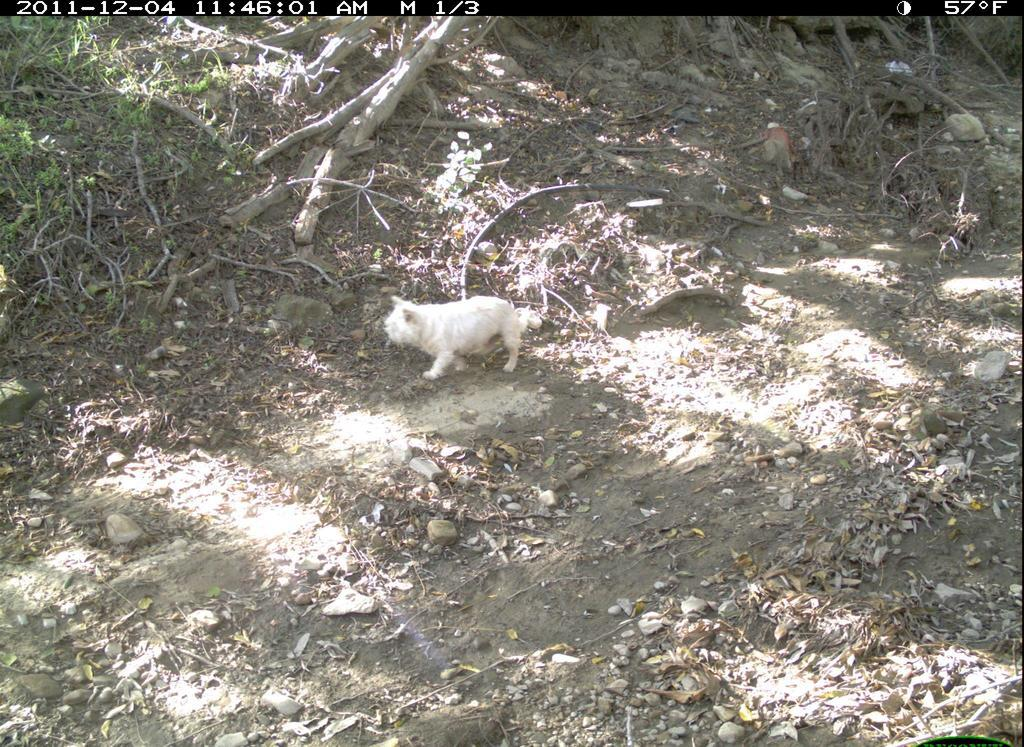dog: (365, 267, 569, 419)
